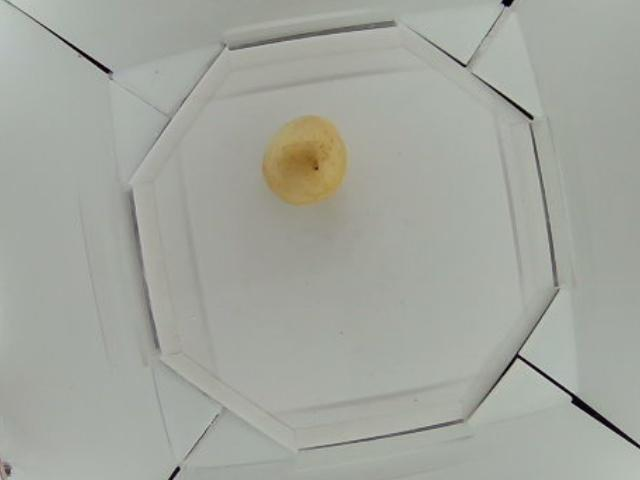Potato: (263, 114, 345, 206)
